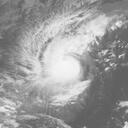cyclone: (31, 27, 103, 104)
